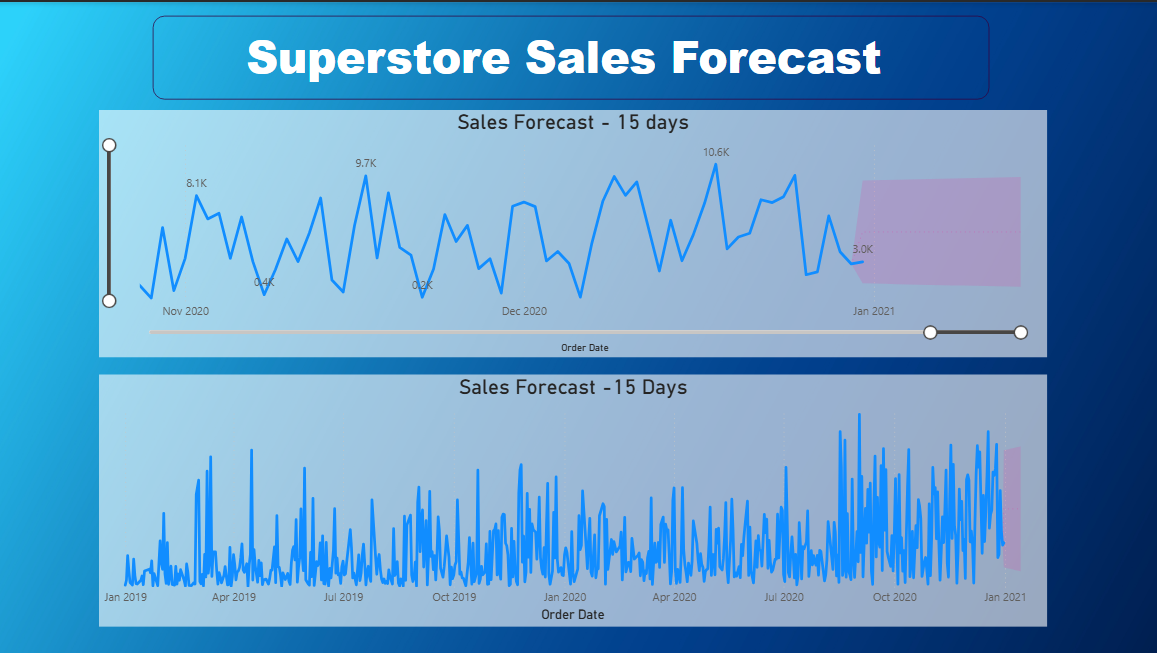

The page's visual inventory and layout, read from the dashboard file:
{"tool":"powerbi","page":{"name":"Page 2","canvas":[1280,720],"ordinal":1},"visuals":[{"type":"lineChart","title":"Sales Forecast - 15 days","fields":{"Y":["Sum(SuperStore_Sales_Dataset.Sales)"],"Category":["SuperStore_Sales_Dataset.Order Date"]},"box":[110,118.3,1041,272.3],"z":0},{"type":"lineChart","title":"Sales Forecast -15 Days","fields":{"Y":["Sum(SuperStore_Sales_Dataset.Sales)"],"Category":["SuperStore_Sales_Dataset.Order Date"]},"box":[110,408.4,1041,276.4],"z":1000},{"type":"textbox","box":[169.1,15.1,918.6,92.1],"z":2000}]}

Visuals, with their boxes in screenshot pixels (x1, y1, x2, y2), scaled from the page's 1280x720 canvas onto the 1157x653 screenshot:
"Sales Forecast - 15 days" lineChart: [x1=99, y1=107, x2=1040, y2=354]
"Sales Forecast -15 Days" lineChart: [x1=99, y1=370, x2=1040, y2=621]
textbox: [x1=153, y1=14, x2=983, y2=97]
